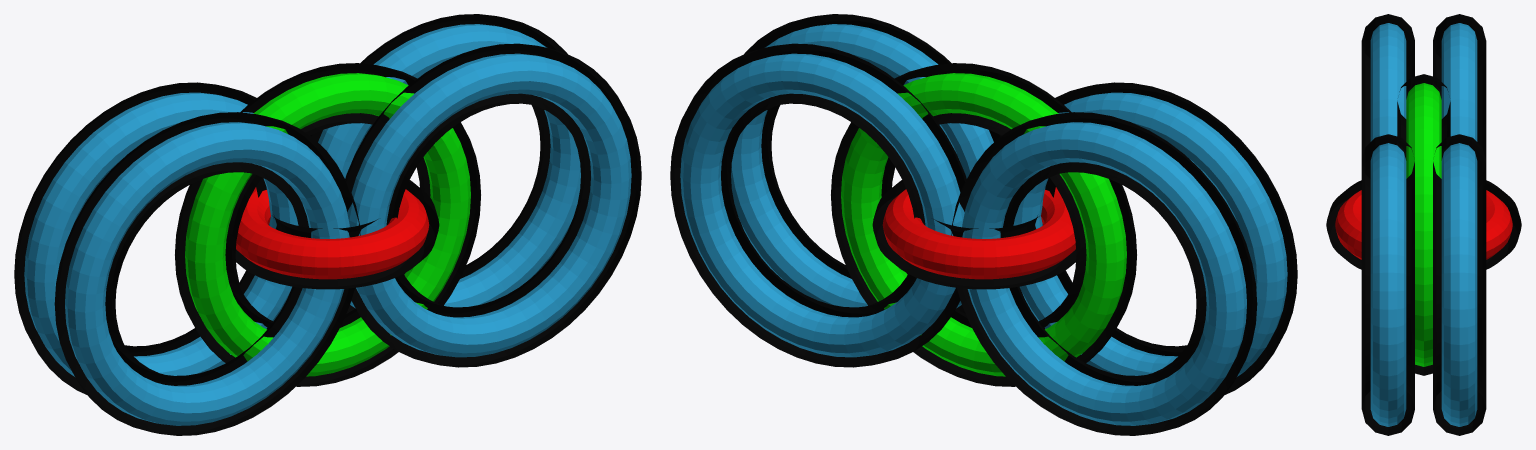
Rendered from heltic_step_02.glb.
3 views of the same model, side by side, from view 1: azimuth 30°, elevation 25°; view 2: azimuth 150°, elevation 25°; view 3: azimuth 270°, elevation 25° (orthographic). The views are drawn at different scales.
Visible parts, largest first — view 1: Torus.003, Torus.004, Torus.008, Torus.002, Torus.001, Torus.007; view 2: Torus.002, Torus.001, Torus.008, Torus.003, Torus.004, Torus.007; view 3: Torus.001, Torus.004, Torus.008, Torus.002, Torus.003, Torus.007.
Boxes of the visible parts, <box> form: Torus.003: <box>54,112,360,435</box>; Torus.004: <box>345,43,641,367</box>; Torus.008: <box>175,63,480,386</box>; Torus.002: <box>14,82,298,394</box>; Torus.001: <box>310,14,580,313</box>; Torus.007: <box>235,180,439,289</box>; Torus.002: <box>951,112,1257,435</box>; Torus.001: <box>670,43,966,367</box>; Torus.008: <box>831,63,1136,386</box>; Torus.003: <box>1013,82,1297,394</box>; Torus.004: <box>731,14,1001,313</box>; Torus.007: <box>872,180,1076,289</box>; Torus.001: <box>1433,134,1486,435</box>; Torus.004: <box>1361,134,1414,435</box>; Torus.008: <box>1397,74,1450,375</box>; Torus.002: <box>1433,14,1486,160</box>; Torus.003: <box>1361,14,1414,160</box>; Torus.007: <box>1326,180,1521,269</box>.
Size of the model in its own units: 6.6 by 3.4 by 2.2.
